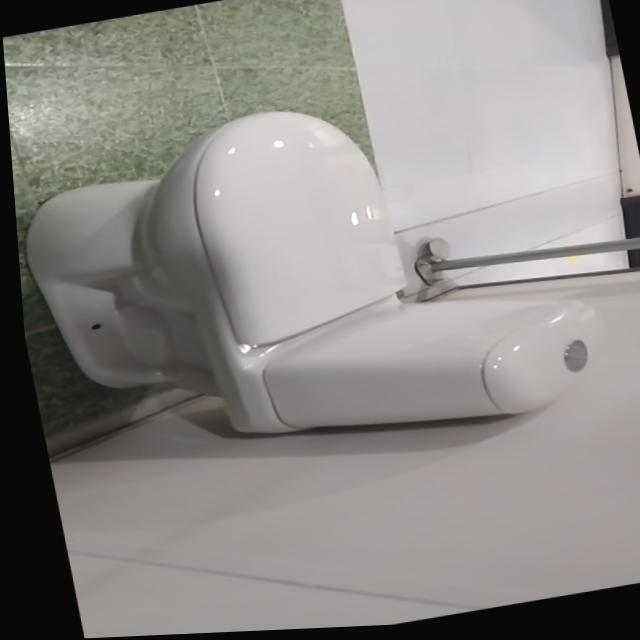toilet: (5, 67, 612, 492)
